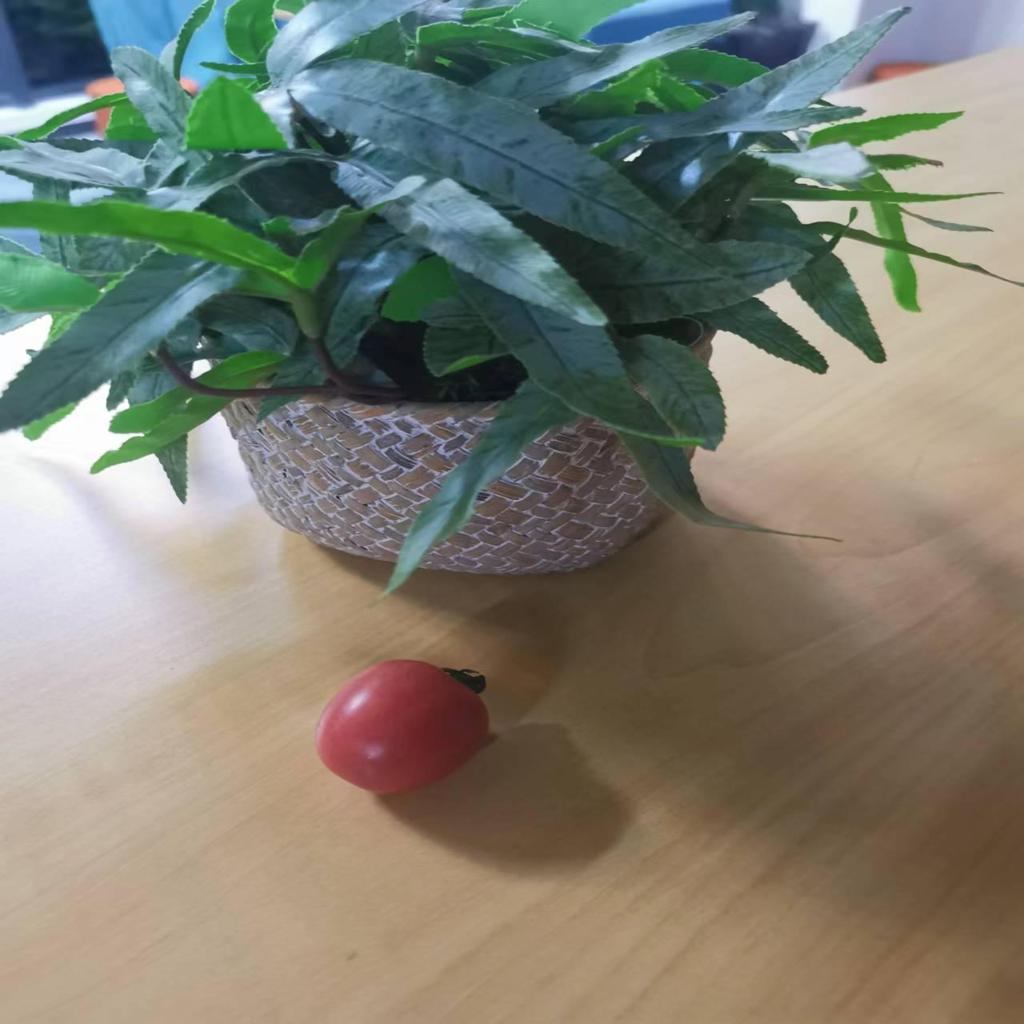tomato: (307, 656, 487, 798)
